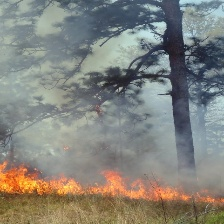fire: (1, 160, 223, 208)
smoke: (4, 6, 224, 177)
